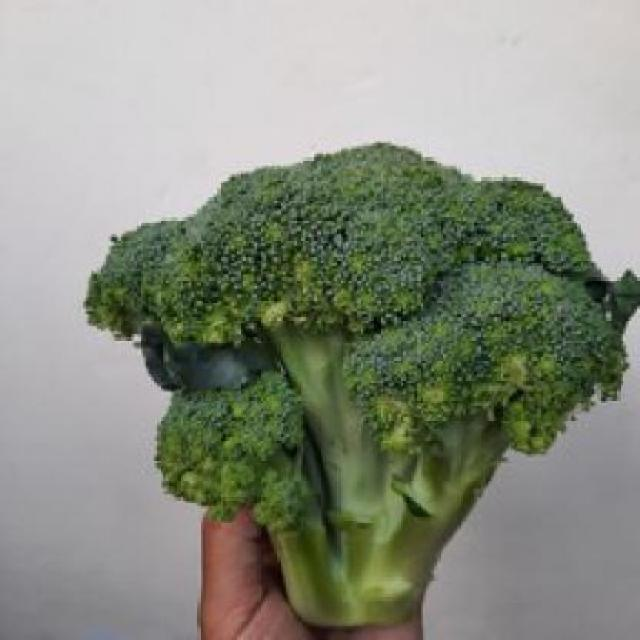broccoli: (82, 132, 638, 638)
